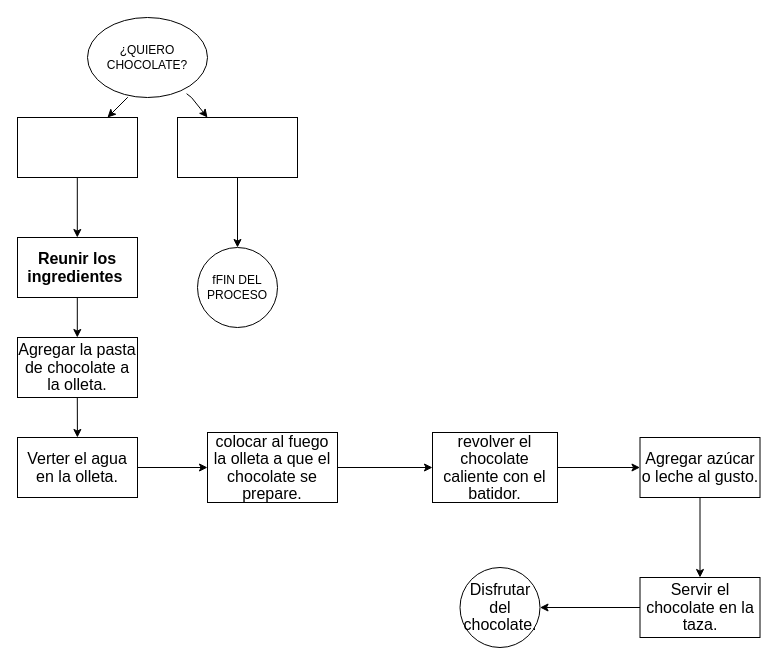
Image size: 778x665. Some labels were removed from this diagram. Here are the shapes that lost their labels. From the top down, the centre of each, then its label:
At point (77, 147): "SI".
At point (237, 147): "NO".
